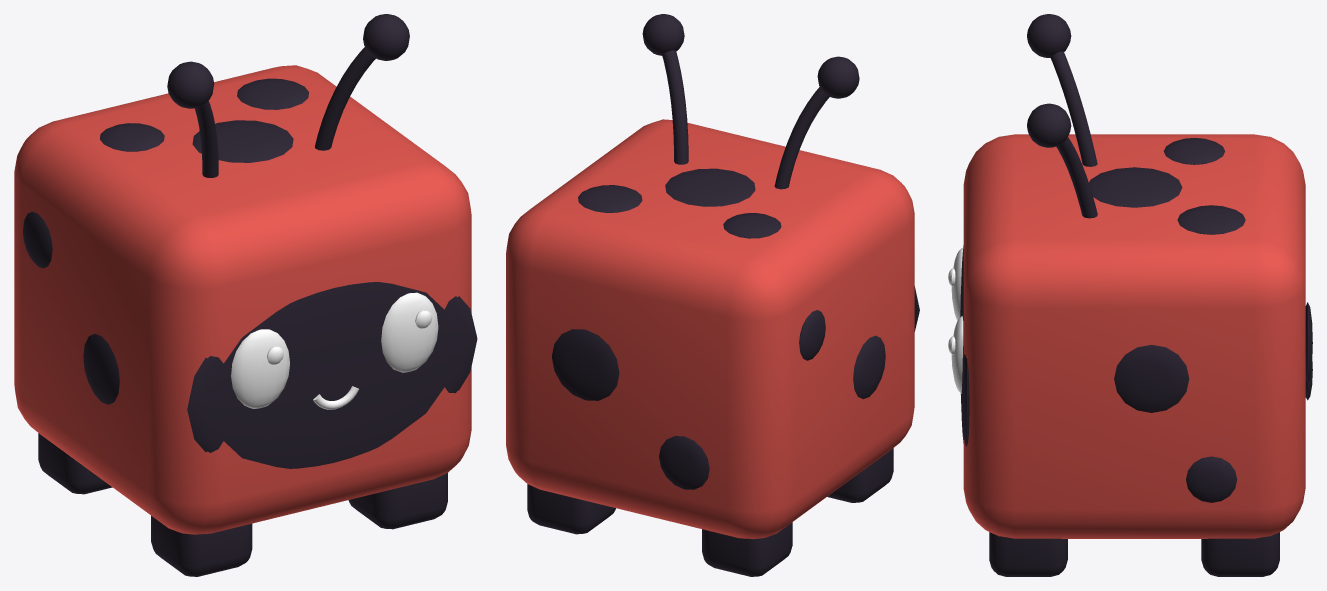
The model's file is Ladybug.glb.
3 renders of one model, left to right at view 1: azimuth 30°, elevation 25°; view 2: azimuth 150°, elevation 25°; view 3: azimuth 270°, elevation 25°, orthographic. The views are drawn at different scales.
Parts seen in each view (by area): view 1: Ladybug; view 2: Ladybug; view 3: Ladybug.
Part boxes in pixels (<box>): Ladybug: <box>14,14,477,576</box>; Ladybug: <box>506,14,919,576</box>; Ladybug: <box>948,14,1312,576</box>.
Bounding box in the file's own units: 2.08 × 2.97 × 2.13.
1 material, 1 textured.
